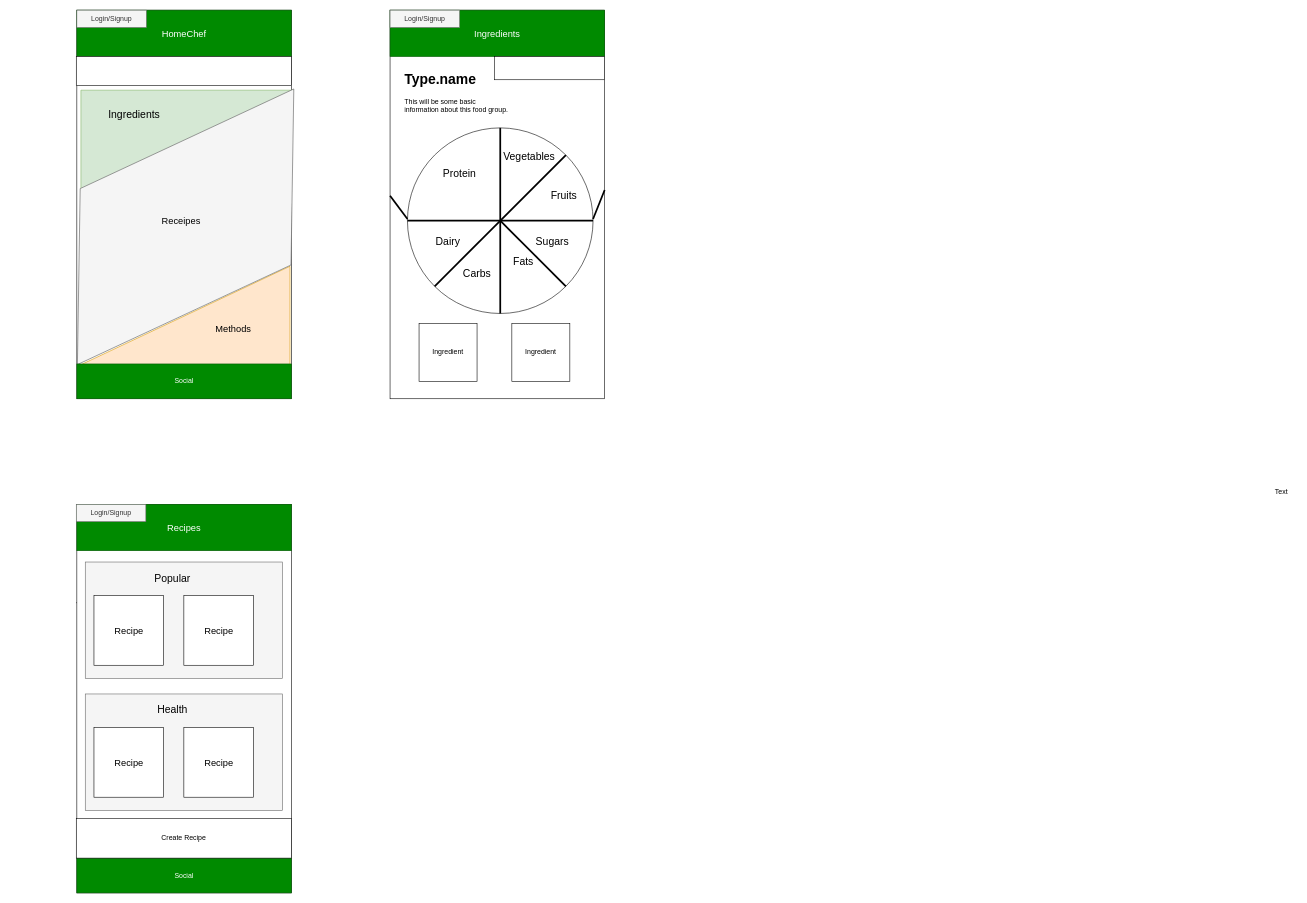
This 1307x903 diagram has some shape labels left out. The shapes that lost their labels are listed below. From the top down, each one's box as (x1, y1, x2, y2) in pixels, then its label:
(76, 56, 291, 86): Search For Ingredients recipes or cooking techniques or diet
(494, 56, 605, 80): Search For a Specific Ingredient
